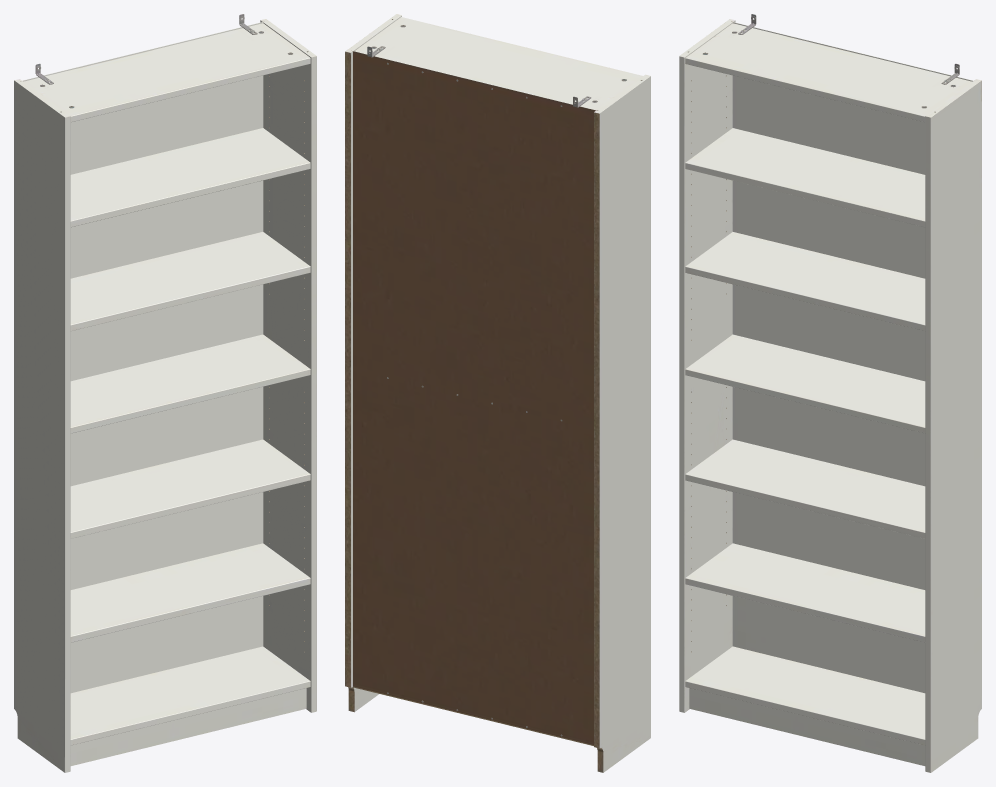
3 views of the same model, side by side, from view 1: azimuth 30°, elevation 25°; view 2: azimuth 150°, elevation 25°; view 3: azimuth 330°, elevation 25° (orthographic).
Visible parts, largest first — view 1: GLTF; view 2: GLTF; view 3: GLTF.
Part boxes in pixels (left/top/right/bottom): GLTF: left=14, top=14, right=316, bottom=772; GLTF: left=345, top=14, right=650, bottom=772; GLTF: left=679, top=14, right=981, bottom=772.
Size of the model in its own units: 0.8 by 2.02 by 0.2799.
1 material, 1 textured.
